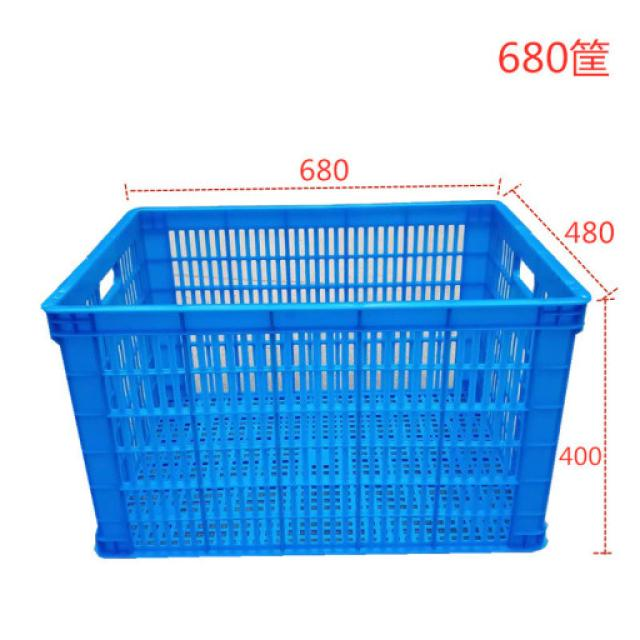basket: (41, 200, 596, 560)
